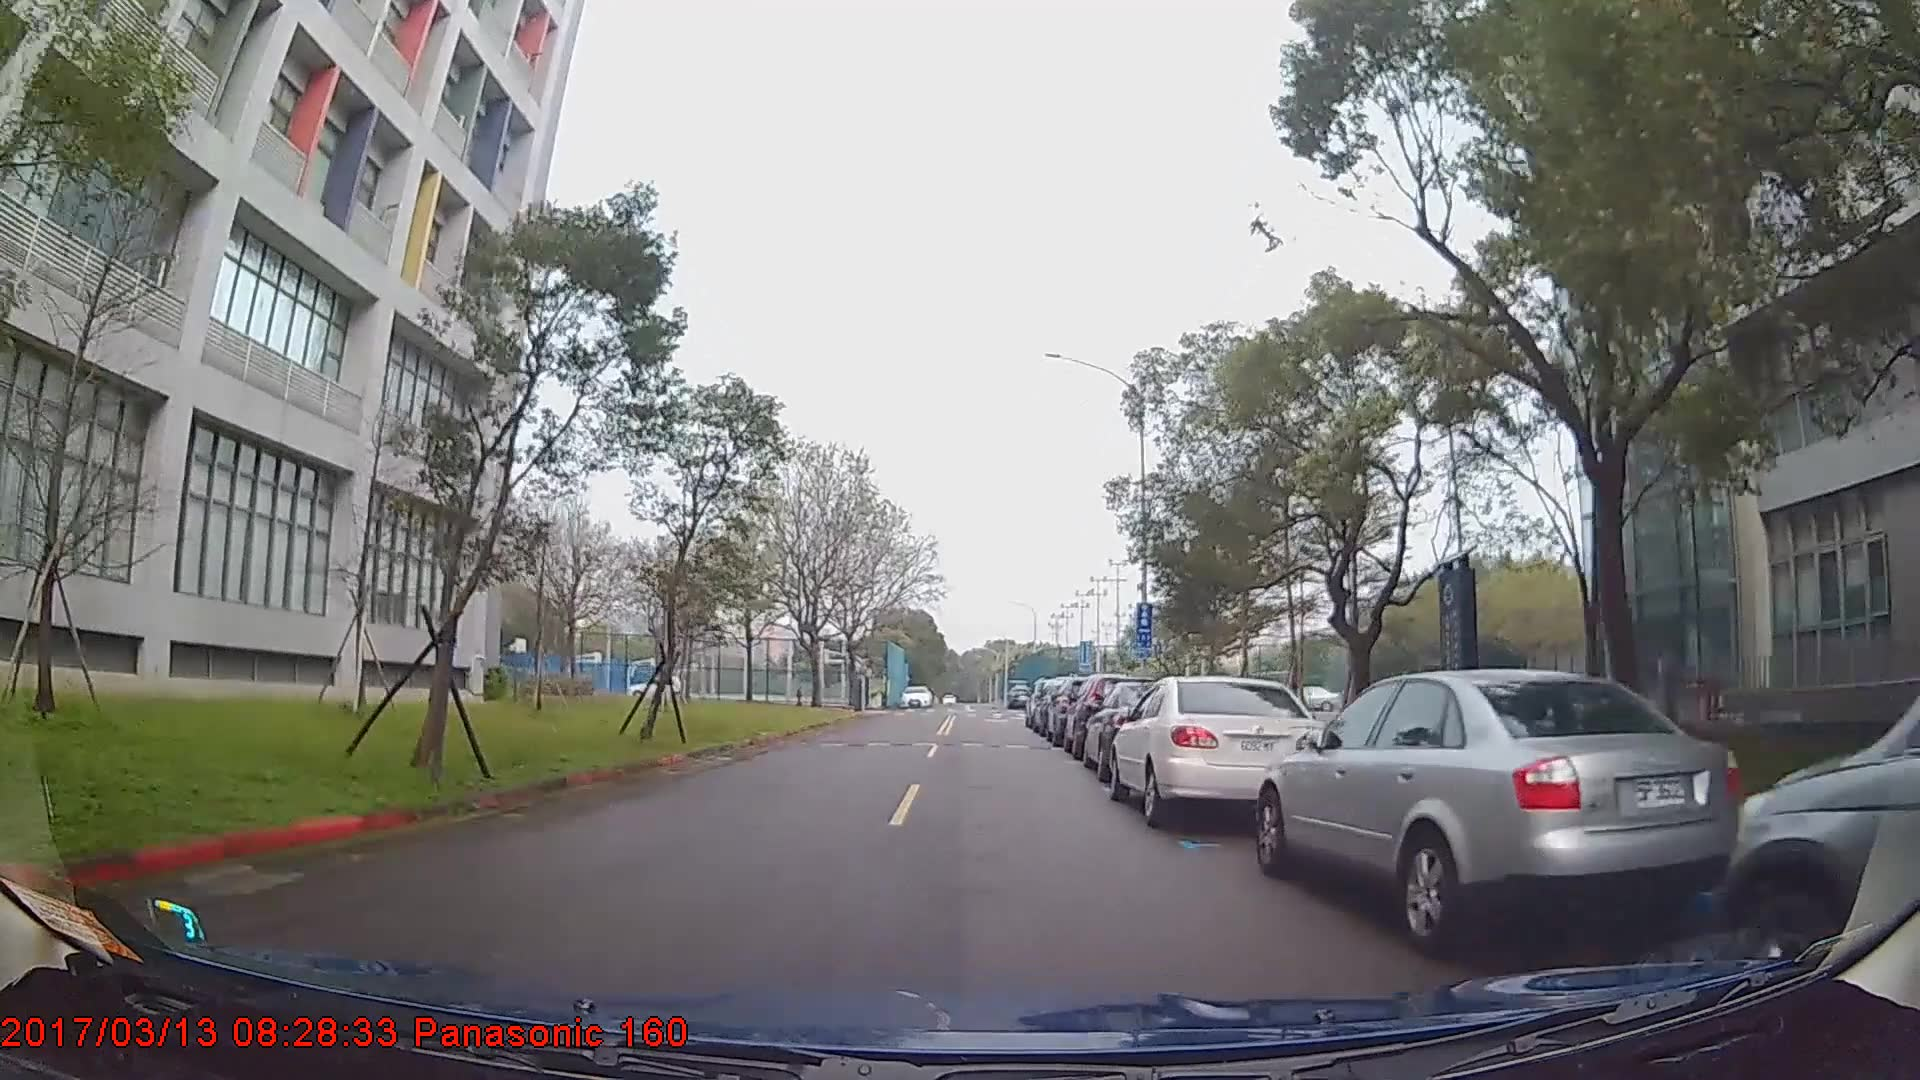vehicle: (1255, 667, 1742, 952), (1724, 688, 1919, 1013), (1108, 674, 1332, 829), (899, 684, 931, 708)
